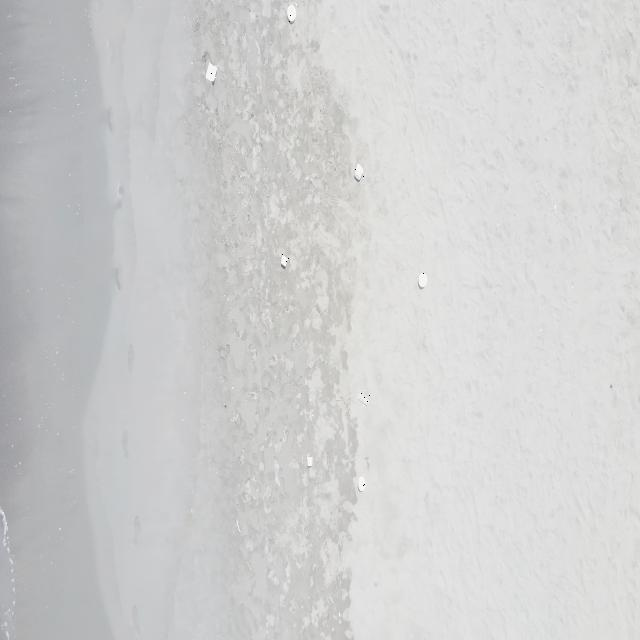take-away-containers: (205, 62, 218, 84), (287, 4, 297, 22), (418, 272, 428, 289), (354, 164, 364, 180), (358, 476, 366, 492), (280, 254, 289, 268), (306, 456, 312, 468)
takeaway-cup: (358, 391, 370, 406)
